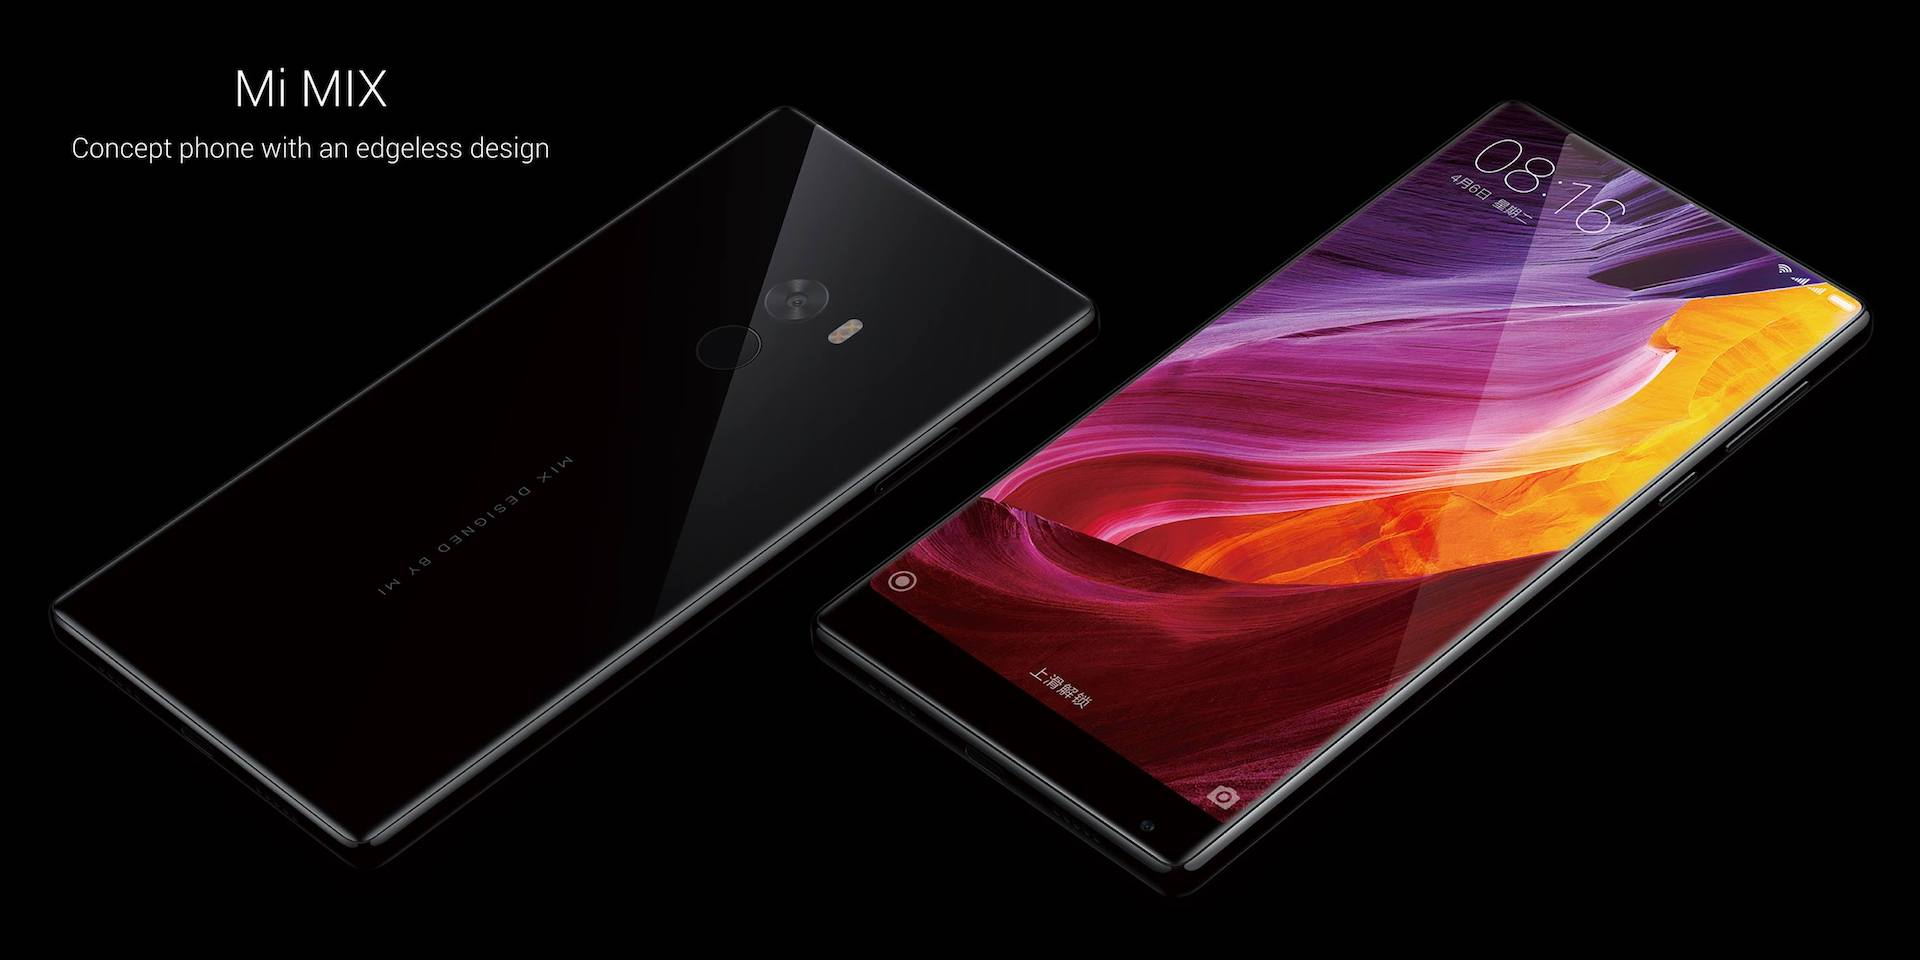smartphone: (807, 93, 1877, 905), (48, 96, 1106, 879)
